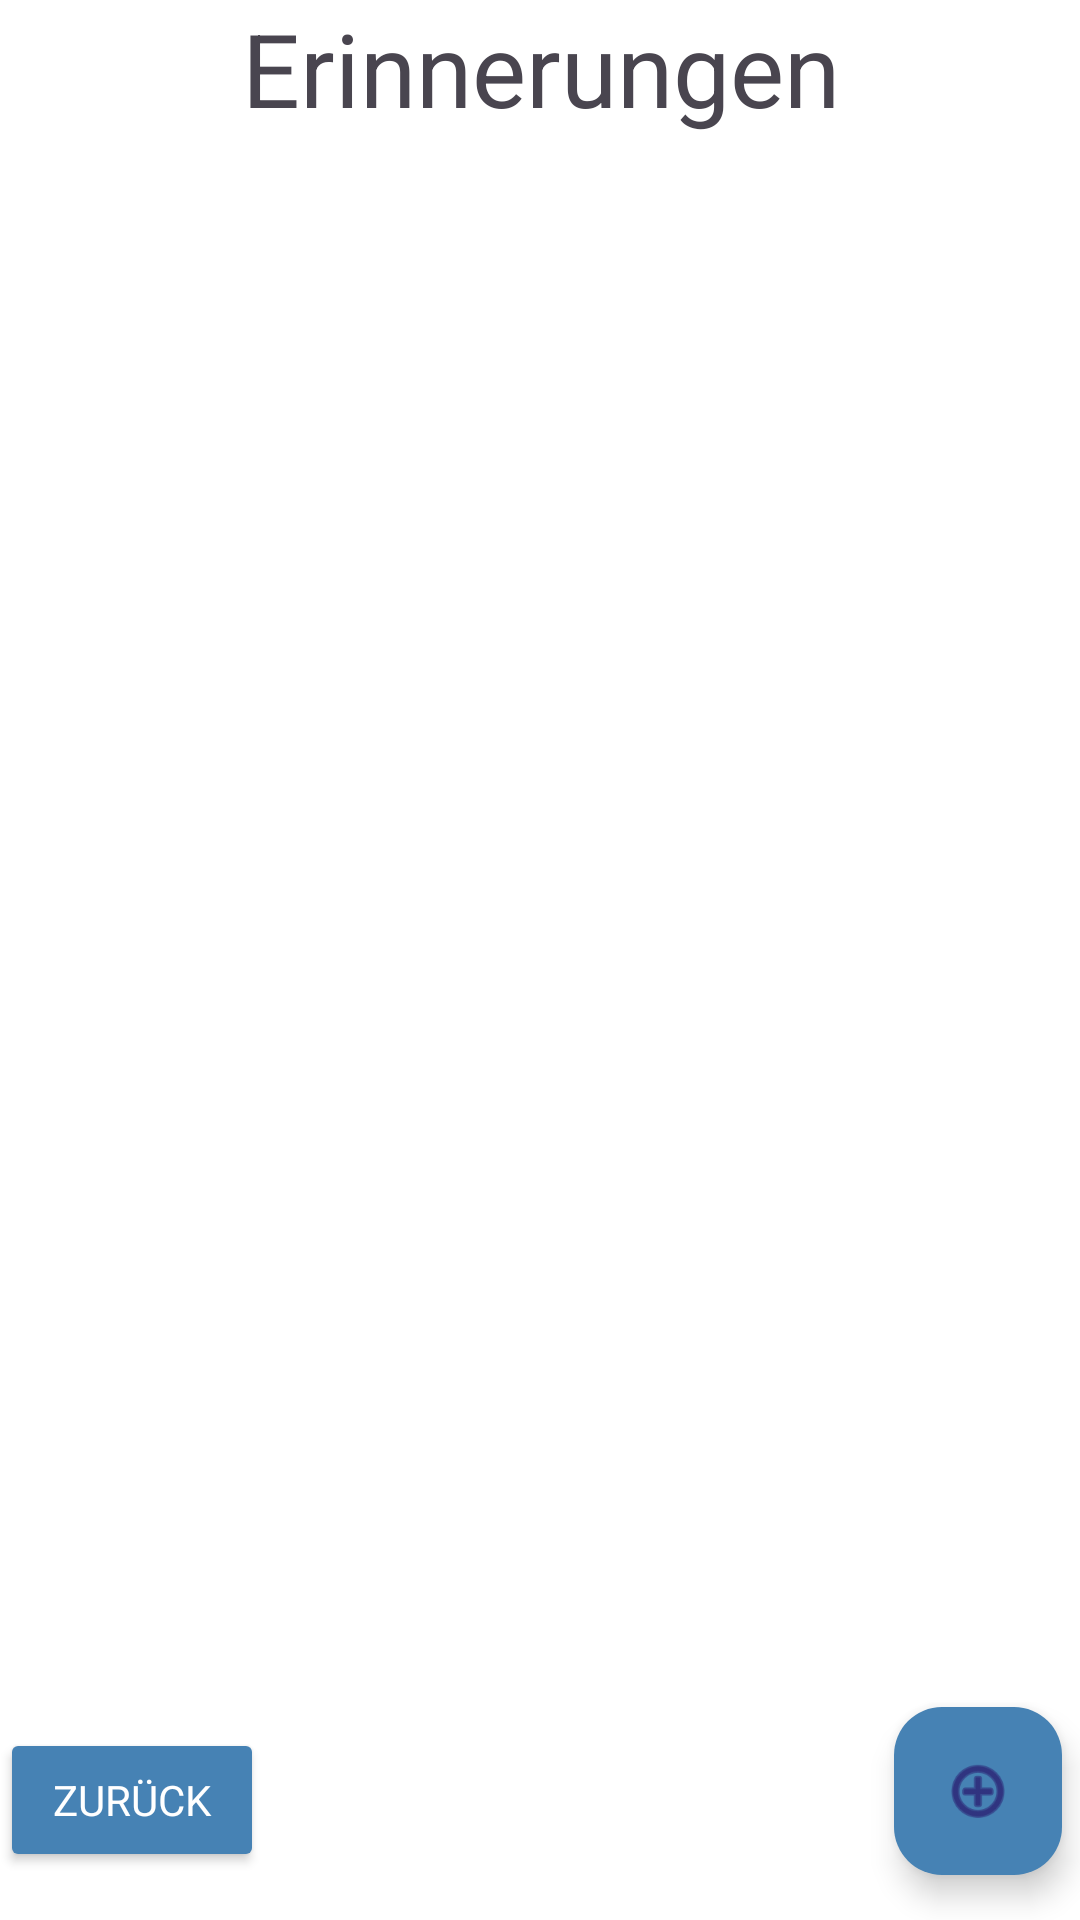

Screen size 1080px x 1920px. Icon name, then its box in pixels as (x1, y1, x2, y2):
add: (894, 1707, 1062, 1875)
